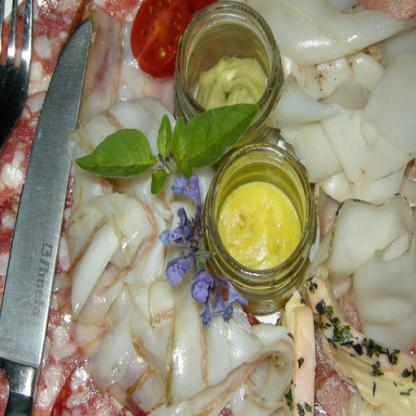knife: (0, 17, 94, 415)
